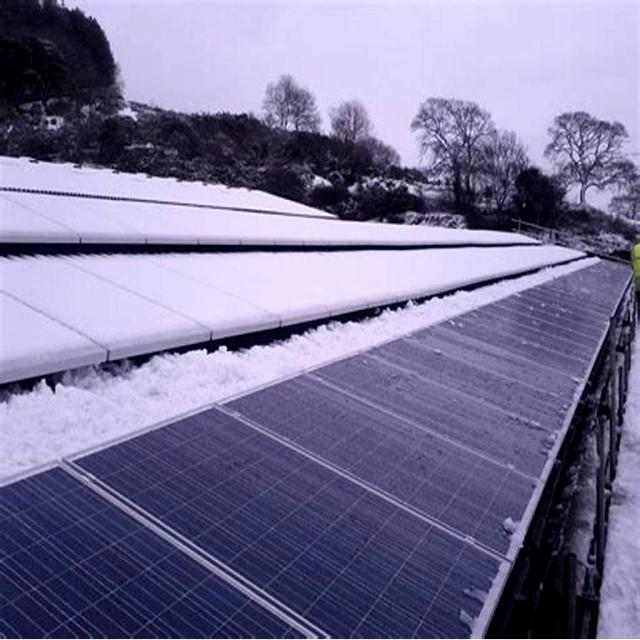panel: (0, 379, 224, 468), (112, 244, 247, 348), (0, 243, 99, 369), (268, 231, 411, 309), (260, 302, 443, 360), (2, 166, 128, 236), (142, 180, 256, 244), (413, 225, 534, 282)
